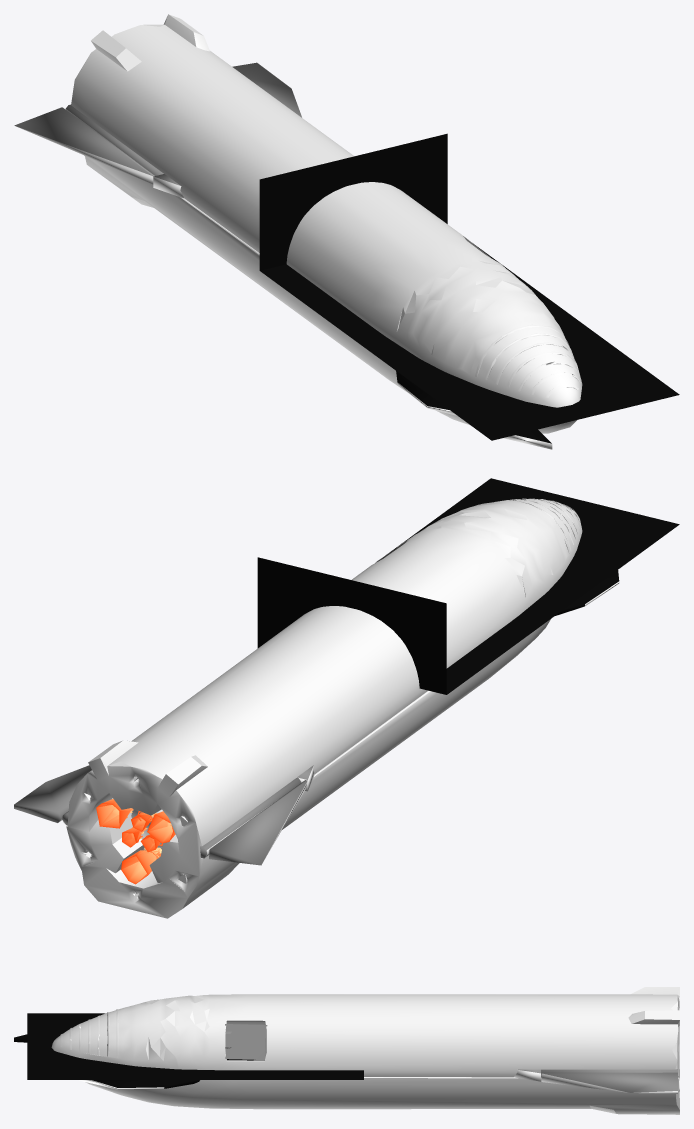
File: starship.glb
3 renders of one model, top to bottom at view 1: azimuth 30°, elevation 25°; view 2: azimuth 150°, elevation 25°; view 3: azimuth 270°, elevation 25°, orthographic. The views are drawn at different scales.
Visible parts, largest first — view 1: Starship, Interior Surface, Lower Flaps.002, Window Struts, Lower Flap Holder, Lower Flaps, Upper Flaps.002; view 2: Starship, Interior Surface, Lower Flaps.002, Lower Flaps, Lower Flap Holder, V Raptor B, V Raptor L, Upper Flaps.002; view 3: Starship, Interior Surface, Lower Flaps, Elavator Door, Upper Flaps, Lower Flap Holder, Window Struts.
Boxes of the visible parts, bbox=[...] form: Starship: bbox=[71, 14, 582, 433]; Interior Surface: bbox=[259, 133, 679, 440]; Lower Flaps.002: bbox=[14, 107, 154, 184]; Window Struts: bbox=[475, 324, 580, 397]; Lower Flap Holder: bbox=[65, 104, 183, 198]; Lower Flaps: bbox=[232, 62, 301, 117]; Upper Flaps.002: bbox=[396, 371, 457, 415]; Starship: bbox=[66, 499, 582, 918]; Interior Surface: bbox=[257, 478, 679, 694]; Lower Flaps.002: bbox=[209, 780, 307, 865]; Lower Flaps: bbox=[14, 765, 91, 822]; Lower Flap Holder: bbox=[62, 765, 314, 858]; V Raptor B: bbox=[121, 847, 161, 884]; V Raptor L: bbox=[96, 799, 133, 828]; Upper Flaps.002: bbox=[555, 570, 619, 615]; Starship: bbox=[51, 987, 679, 1114]; Interior Surface: bbox=[27, 1013, 363, 1079]; Lower Flaps: bbox=[541, 1072, 678, 1093]; Elavator Door: bbox=[225, 1024, 267, 1059]; Upper Flaps: bbox=[79, 1080, 199, 1089]; Lower Flap Holder: bbox=[514, 1069, 677, 1081]; Window Struts: bbox=[60, 1009, 118, 1058].
Size of the model in its own units: 16.29 by 10.73 by 52.69.
